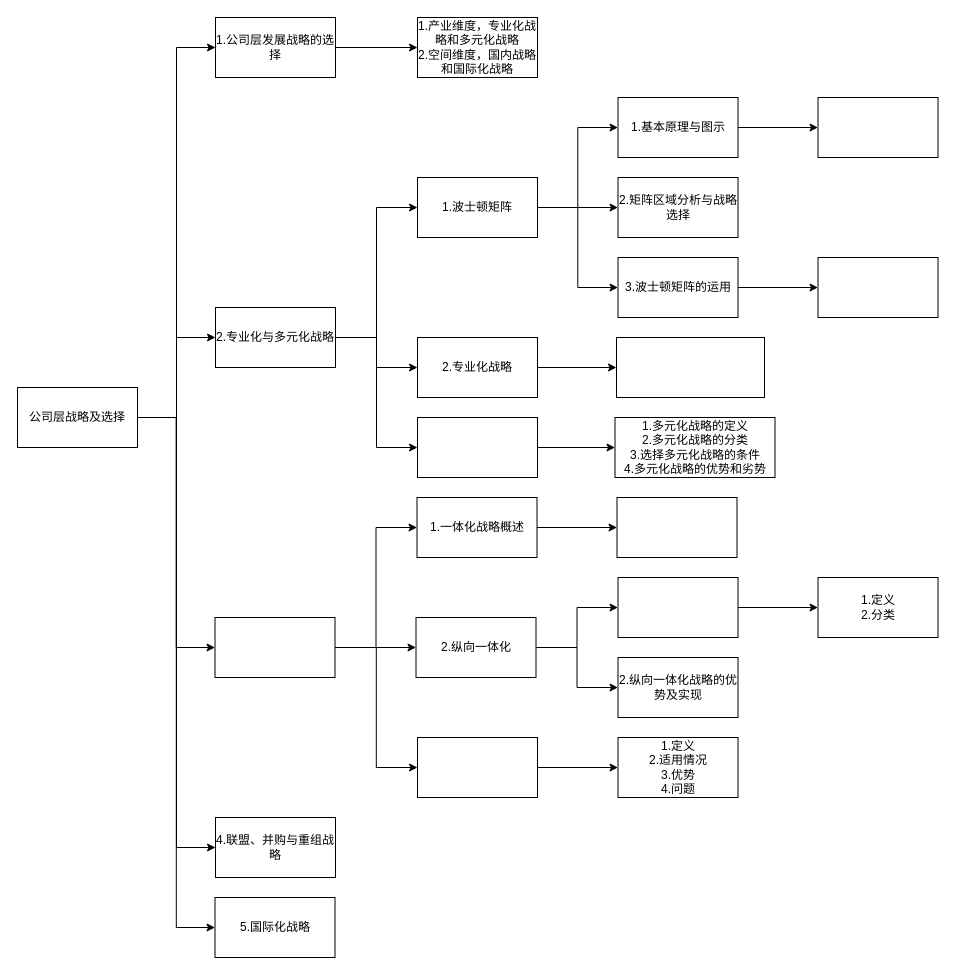
Some shapes in this 956 by 975 pixel diagram are drawn without their labels. Each missing label, with the centre of its shape:
1.专业化战略的定义 2.专业化战略的分类 3.选择专业化战略的条件 4.专业化战略的优势和劣势: pixel 690 367
1.分析步骤 2.局限性: pixel 877 287
1.定义 2.理论依据 3.类型 4.模型图: pixel 676 527
1.简介 2.前提 3.矩阵构图: pixel 877 127
1.纵向一体化的定义和分类: pixel 677 607
3.一体化战略: pixel 274 647
3.多元化战略: pixel 477 447
3.横向一体化: pixel 477 767
